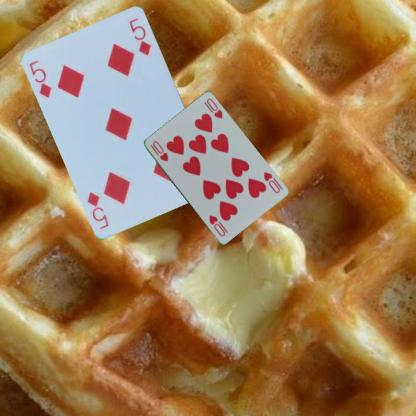10h: (147, 138, 170, 163), (260, 169, 280, 194)
5d: (26, 58, 54, 100)
